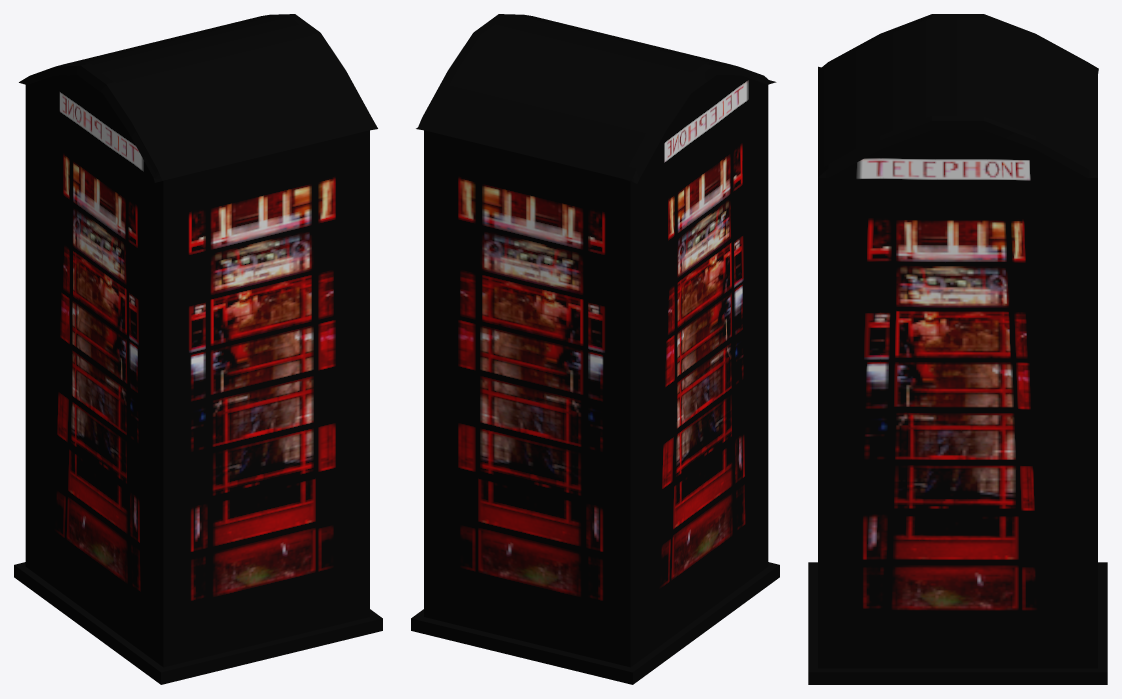
Rendered from phonebooth.FBX.
3 views of the same model, side by side, from view 1: azimuth 30°, elevation 25°; view 2: azimuth 150°, elevation 25°; view 3: azimuth 270°, elevation 25° (orthographic).
Visible parts, largest first — view 1: Box001; view 2: Box001; view 3: Box001.
Part boxes in pixels (box(x1,y1,x2,y2)): Box001: box(14, 14, 382, 684); Box001: box(411, 14, 779, 684); Box001: box(808, 14, 1107, 684).
Bounding box in the file's own units: 28.1 × 66.67 × 32.04.
